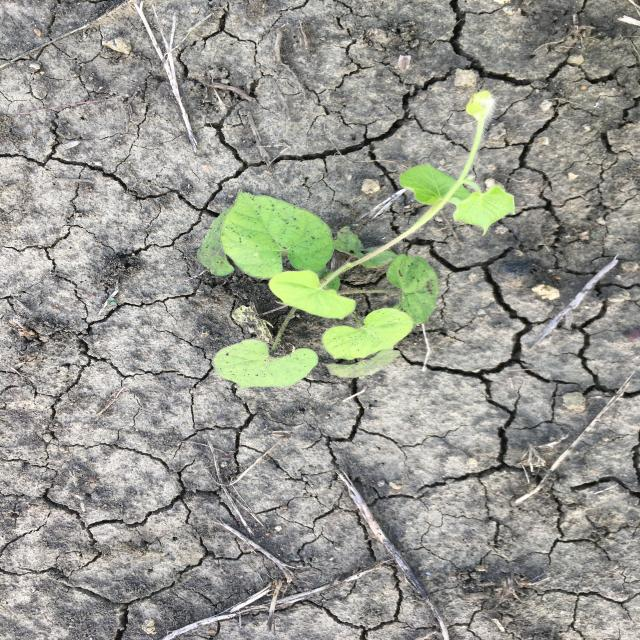MorningGlory: (192, 88, 518, 395)
